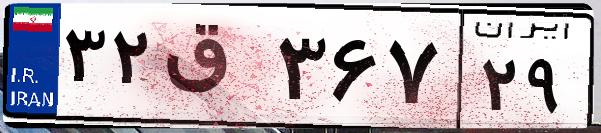2: (475, 38, 525, 113), (110, 28, 158, 98)
3: (270, 28, 330, 110), (57, 26, 110, 100)
6: (330, 28, 385, 110)
7: (385, 28, 445, 110)
9: (525, 38, 570, 115)
ق: (158, 20, 270, 120)
